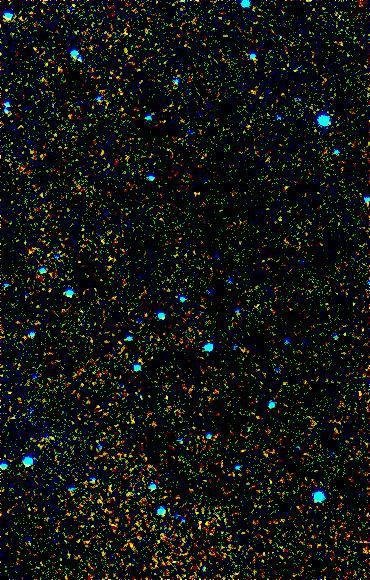star: (173, 179, 203, 209)
